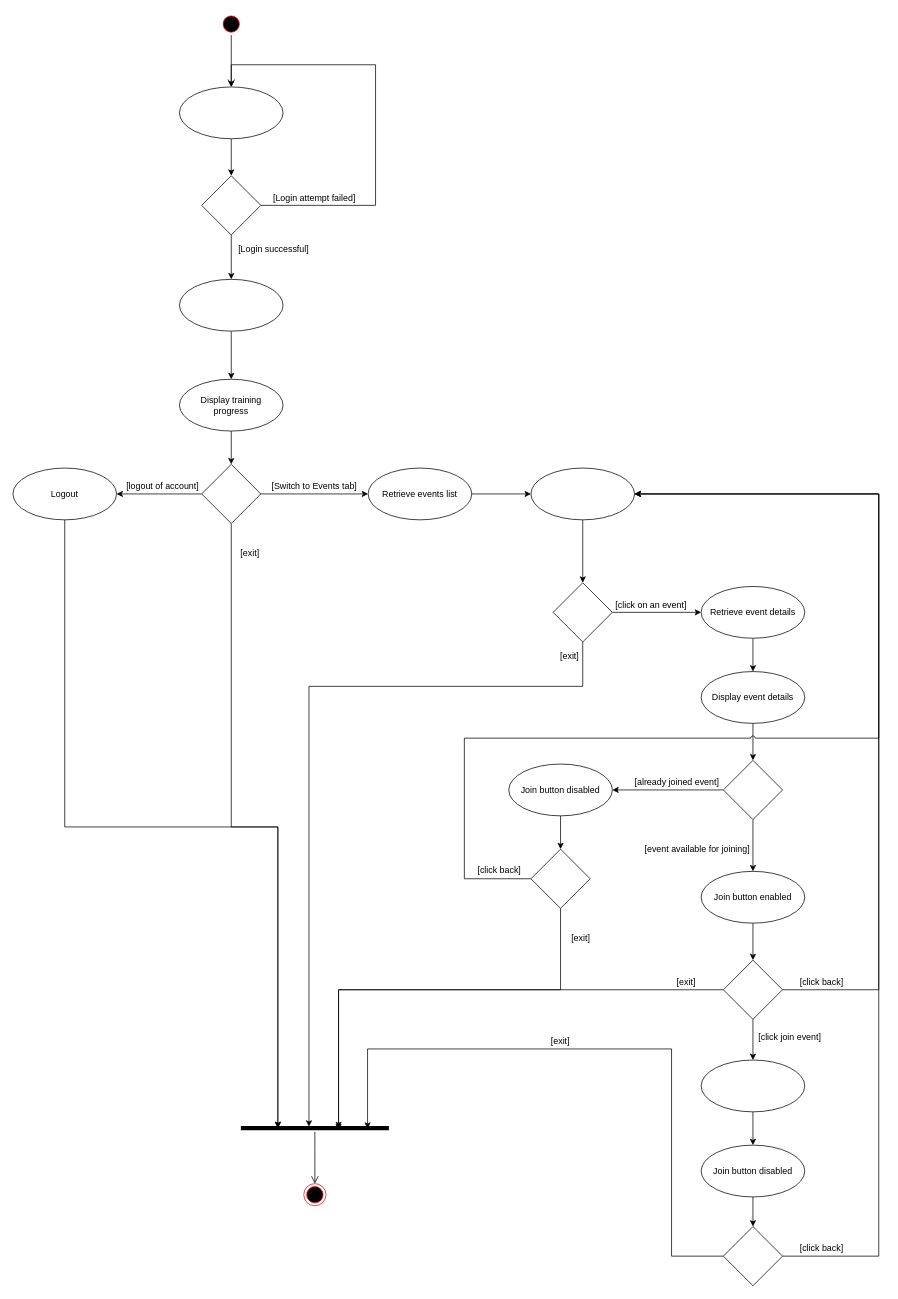
This 898x1299 diagram has some shape labels left out. Each missing label, with the centre of its shape:
Add event to joined event list: the point at 752,1085
Display events list: the point at 582,493
Login: the point at 231,112
Retrieve training progress: the point at 231,305
